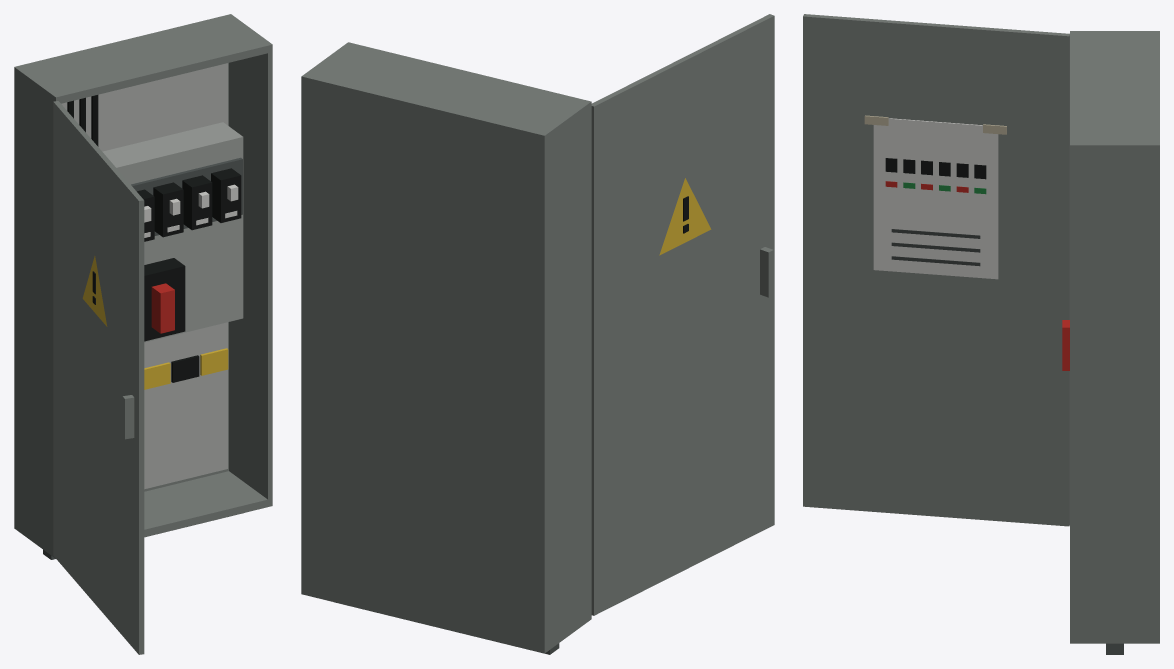
The model's file is tu_dien.glb.
The picture shows the model from 3 angles, left to right: view 1: azimuth 30°, elevation 25°; view 2: azimuth 150°, elevation 25°; view 3: azimuth 270°, elevation 25°; orthographic projection. The views are drawn at different scales.
Visible parts, largest first — view 1: tu_dien; view 2: tu_dien; view 3: tu_dien.
Part boxes in pixels (x1=…): tu_dien: x1=14, y1=14, x2=272, y2=654; tu_dien: x1=301, y1=14, x2=774, y2=654; tu_dien: x1=803, y1=14, x2=1159, y2=654.
Size of the model in its own units: 1.09 by 1.89 by 1.19.
